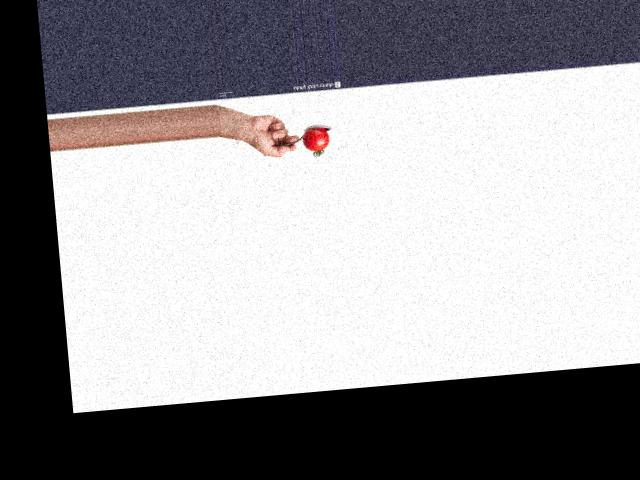tomato: (301, 127, 329, 152)
